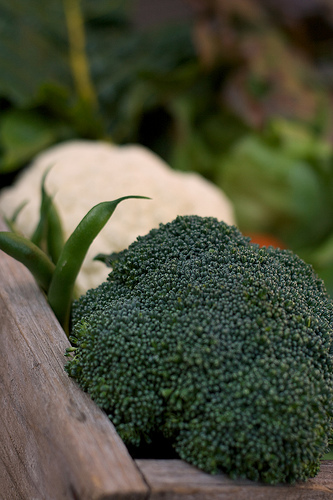broccoli: (61, 212, 331, 482)
